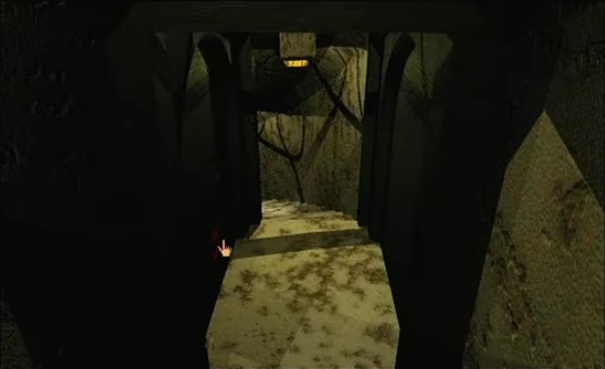Pointer: (214, 235, 235, 259)
